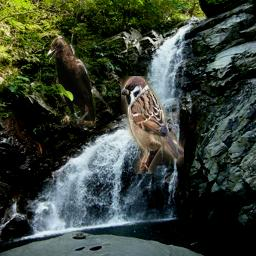Crow: (45, 35, 96, 128)
Sparrow: (121, 76, 184, 174)
